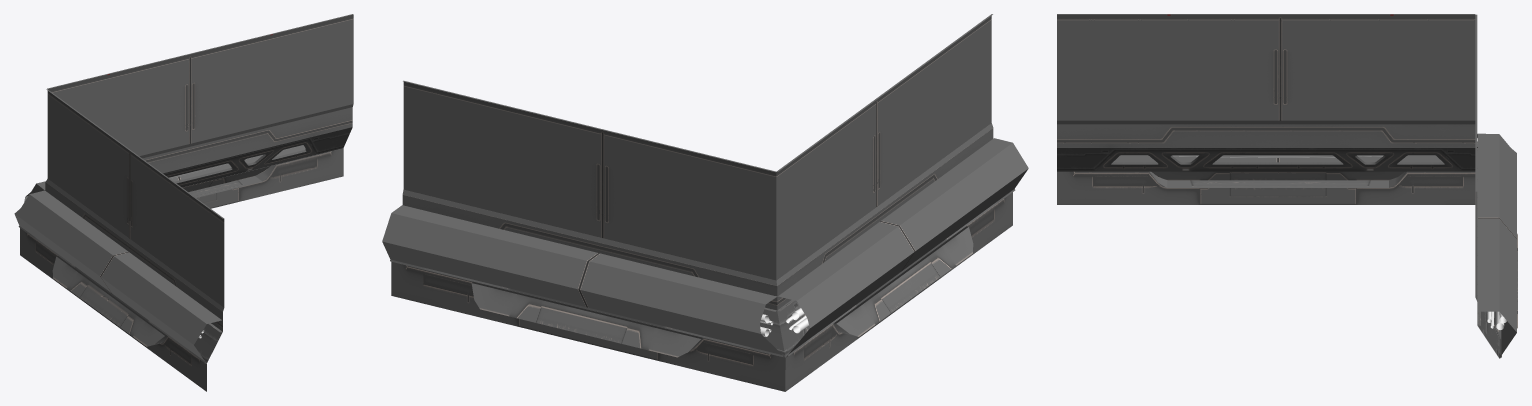
The model's file is TopCables_Corner_Square_Inner.gltf.
3 views of the same model, side by side, from view 1: azimuth 30°, elevation 25°; view 2: azimuth 150°, elevation 25°; view 3: azimuth 270°, elevation 25° (orthographic). The views are drawn at different scales.
Parts seen in each view (by area): view 1: TopCables_Corner_Square_Inner; view 2: TopCables_Corner_Square_Inner; view 3: TopCables_Corner_Square_Inner.
Part boxes in pixels (x1=…): TopCables_Corner_Square_Inner: x1=14, y1=14, x2=353, y2=391; TopCables_Corner_Square_Inner: x1=382, y1=14, x2=1028, y2=391; TopCables_Corner_Square_Inner: x1=1057, y1=14, x2=1517, y2=358.
Size of the model in its own units: 4.17 by 2 by 4.17.
4 materials, 3 textured.
